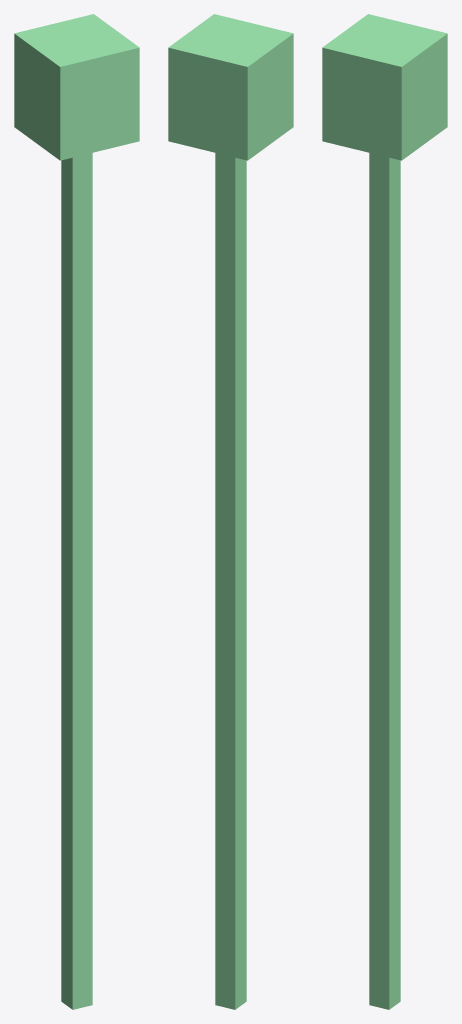
File: necromancer_staff.glb
3 views of the same model, side by side, from view 1: azimuth 30°, elevation 25°; view 2: azimuth 150°, elevation 25°; view 3: azimuth 330°, elevation 25° (orthographic).
Parts seen in each view (by area): view 1: necromancer_staff; view 2: necromancer_staff; view 3: necromancer_staff.
Part boxes in pixels (x1,y1,x2,y2): necromancer_staff: (14,14,139,1009); necromancer_staff: (168,14,293,1009); necromancer_staff: (322,14,447,1009).
Bounding box in the file's own units: 0.16 × 1.85 × 0.16.
